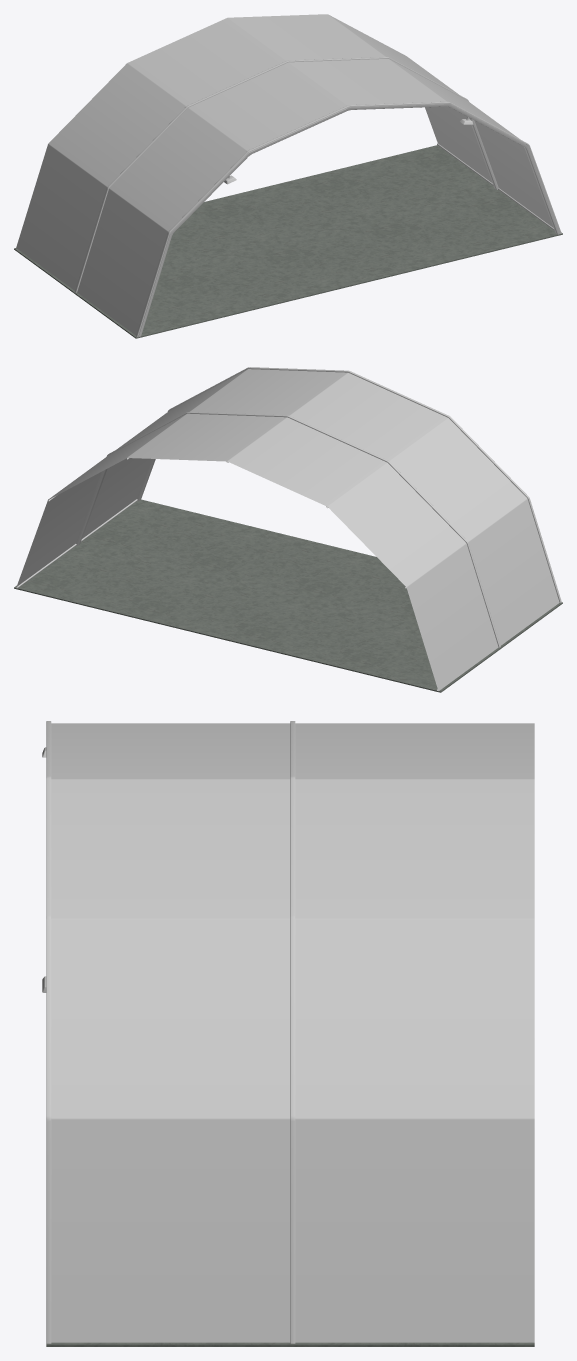
Rendered from Warehouse01_1.FBX.
The picture shows the model from 3 angles, top to bottom: view 1: azimuth 30°, elevation 25°; view 2: azimuth 150°, elevation 25°; view 3: azimuth 270°, elevation 25°; orthographic projection. The views are drawn at different scales.
Visible parts, largest first — view 1: Warehouse01_1; view 2: Warehouse01_1; view 3: Warehouse01_1.
Part boxes in pixels (left/top/right/bottom): Warehouse01_1: left=14, top=14, right=562, bottom=338; Warehouse01_1: left=14, top=367, right=562, bottom=692; Warehouse01_1: left=42, top=721, right=534, bottom=1346.
Size of what is drawn, in the model's own units: 20.2 by 8.17 by 10.08.
